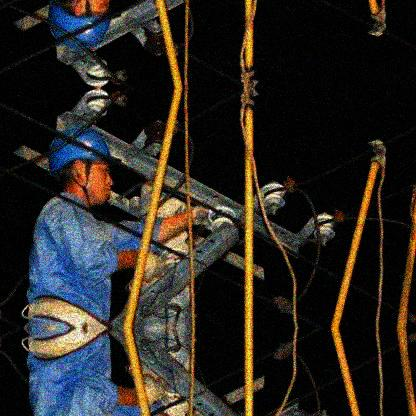helmet: (48, 127, 114, 207), (48, 1, 109, 49)
